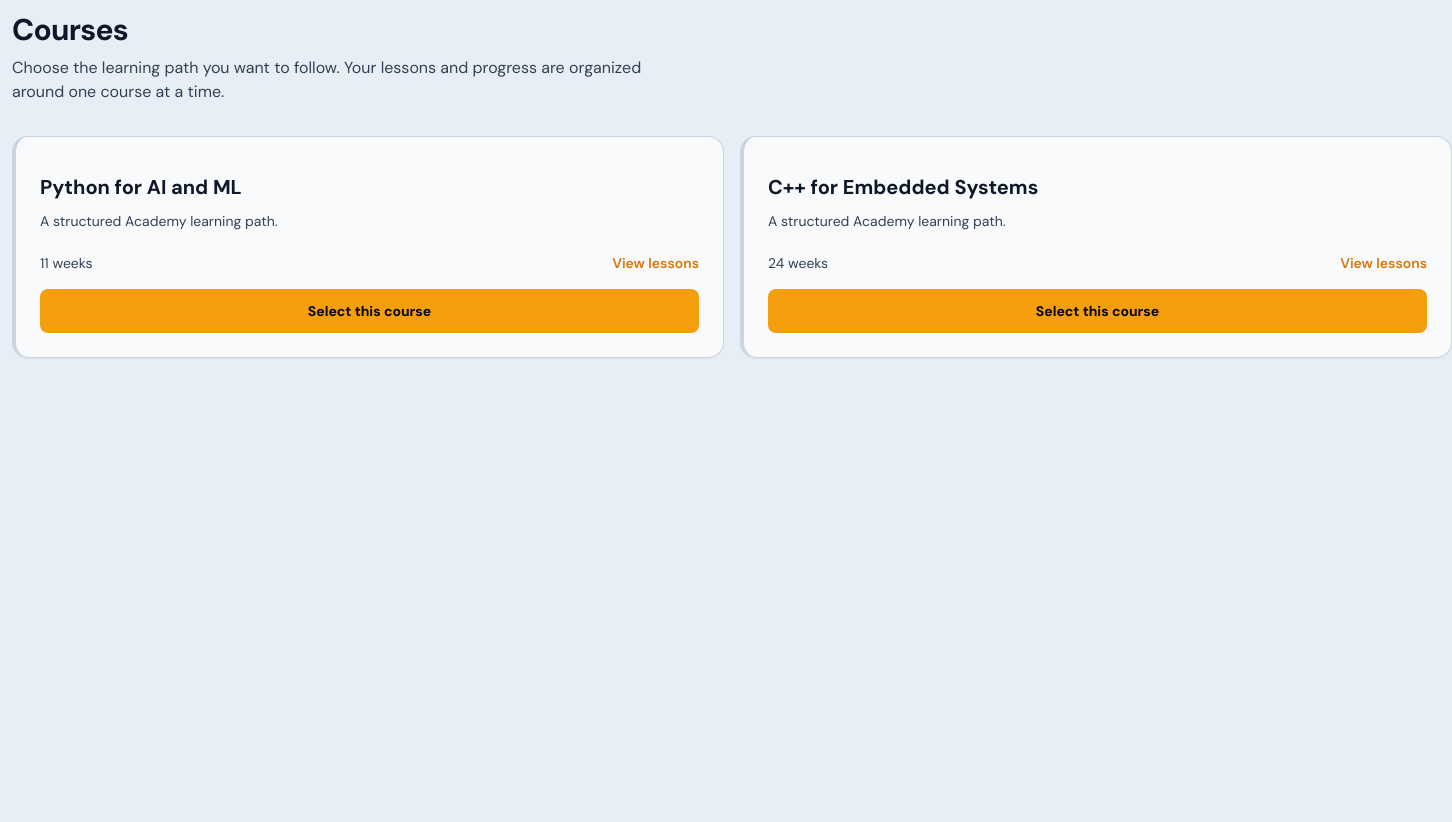
Test: course selection guidance › disables both selection controls immediately after a course is selected
The width and height of the screenshot is (1452, 822).
Click the button with aria-label "Select course: Python for AI and ML" at x=370, y=311, box [40, 289, 699, 333]
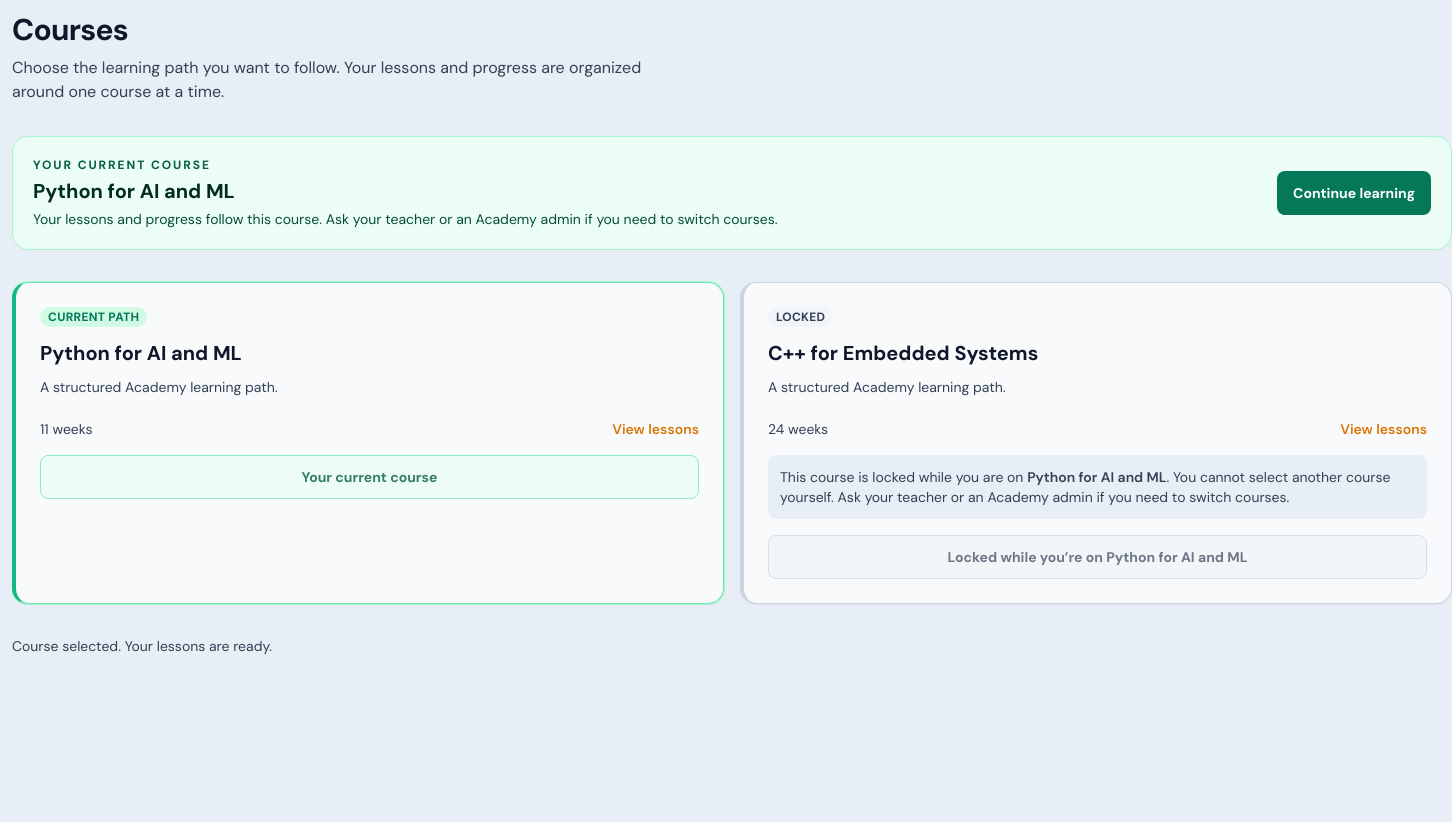
Expected: the element "Your current course" shows "Python for AI and ML", [33, 178, 235, 204]
Expected: the button with aria-label "Your current course: Python for AI and ML" is disabled, [40, 455, 699, 499]
Expected: the button "Locked while you’re on Python for AI and ML" is disabled, [768, 535, 1427, 579]
